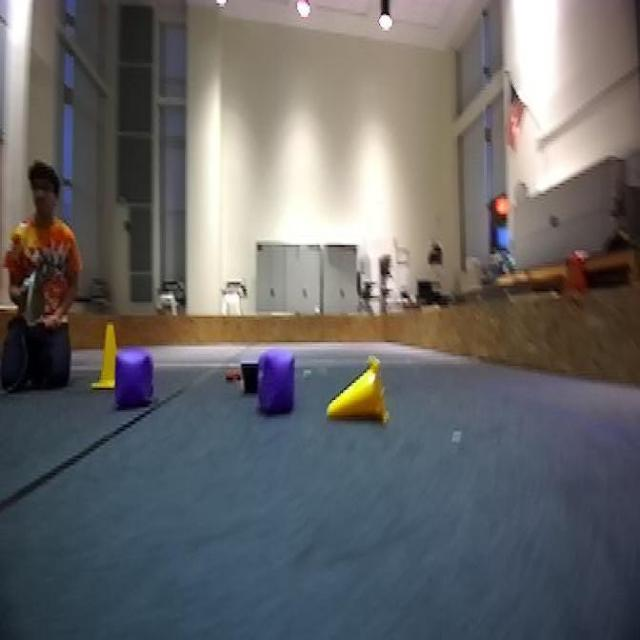frc_cone: (325, 350, 391, 436), (92, 318, 132, 395)
frc_cube: (255, 347, 299, 417), (112, 342, 148, 415)
